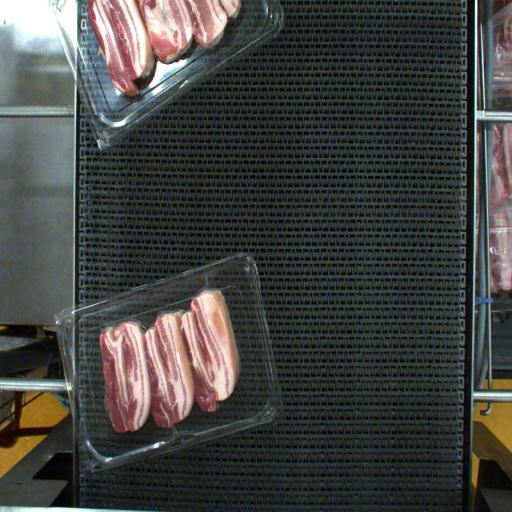packaging-error: (153, 413, 186, 456)
unsealed: (96, 278, 241, 360)
